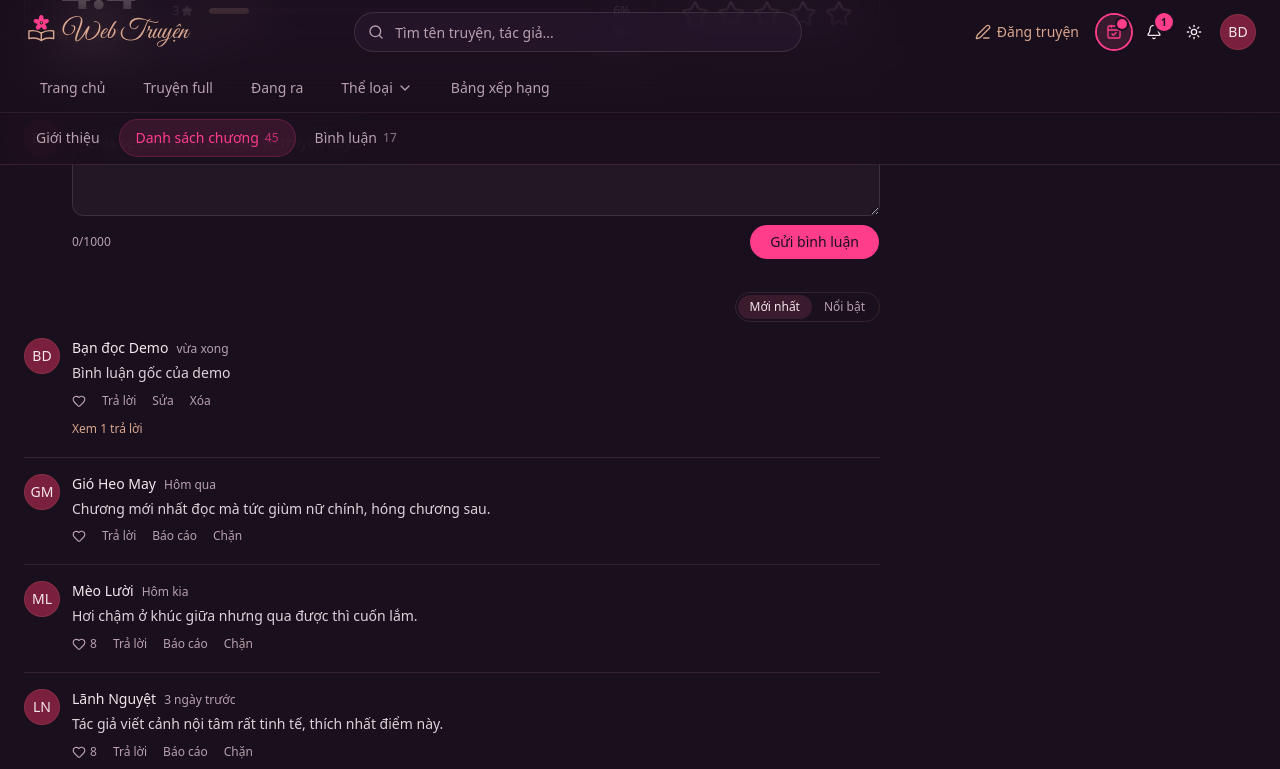
it: xóa bình luận có trả lời thì hộp thoại báo số trả lời mất theo
(page scrolled)
What coordinates should you click on to do the following:
click the button "Xóa"
I would click on:
 (200, 401)
Its box is [190,389,211,413].
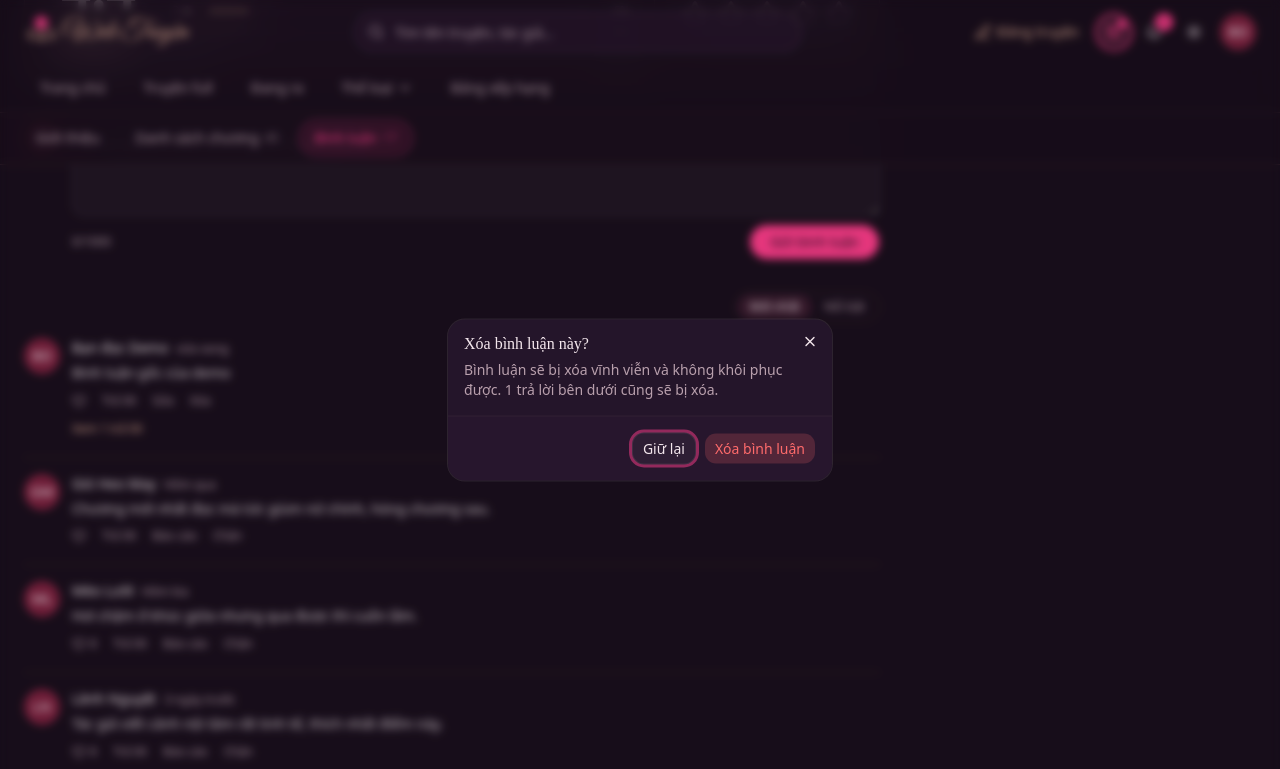
Now the text "1 trả lời bên dưới cũng sẽ bị xóa" is shown, box [501,380,718,398]
What coordinates should you click on to do the following:
click the button "Xóa bình luận"
I would click on:
 (760, 448)
Its box is [704,432,816,464].
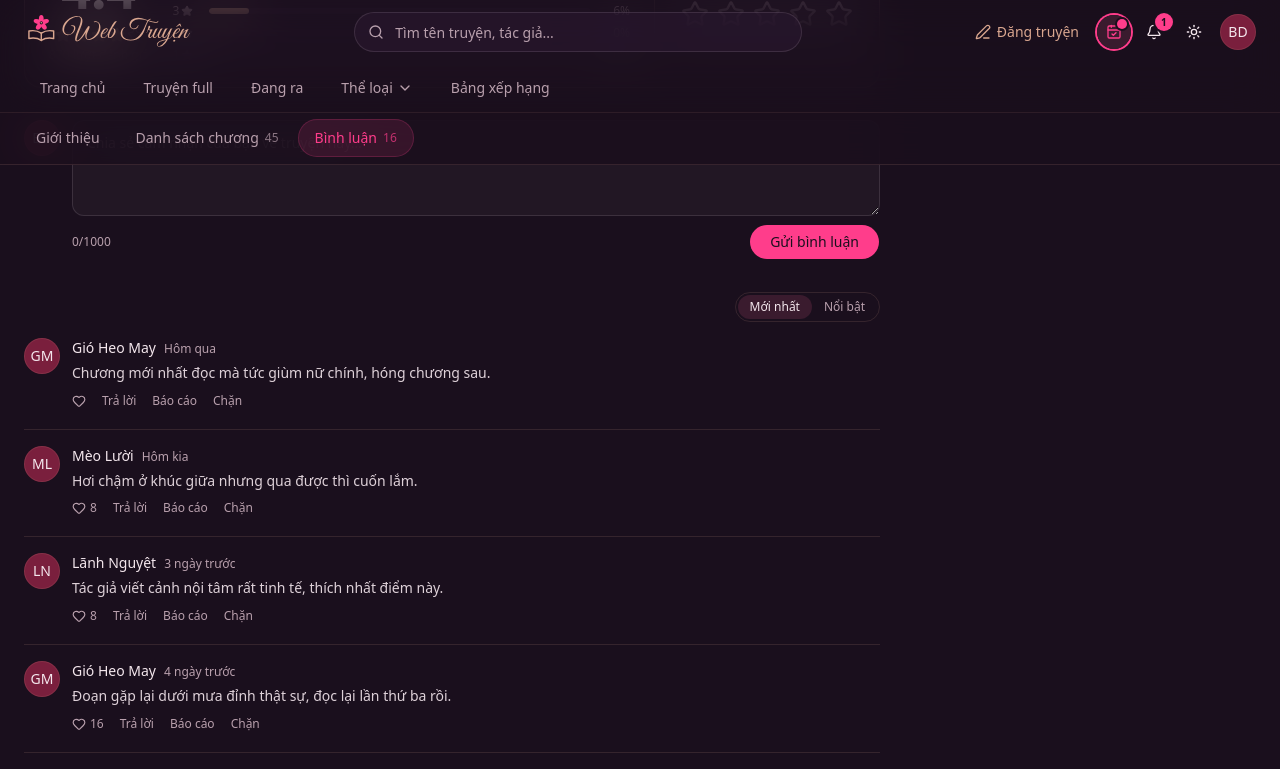
Now the text "Bình luận gốc của demo" is gone
